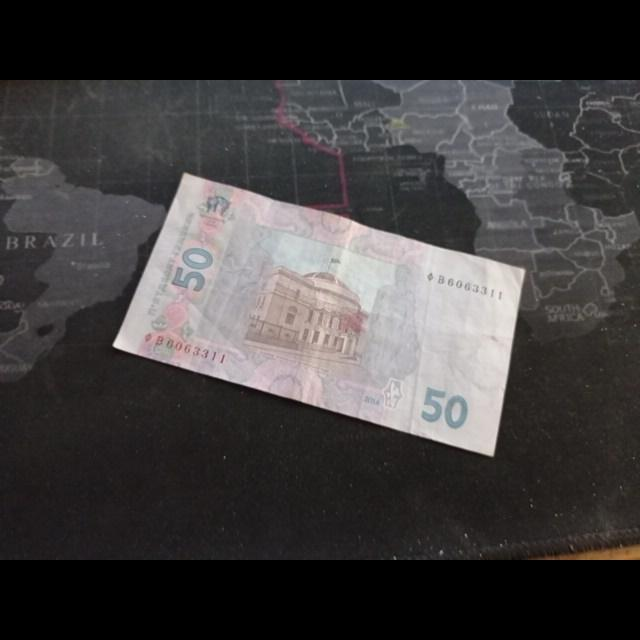50uah: (112, 172, 527, 458)
